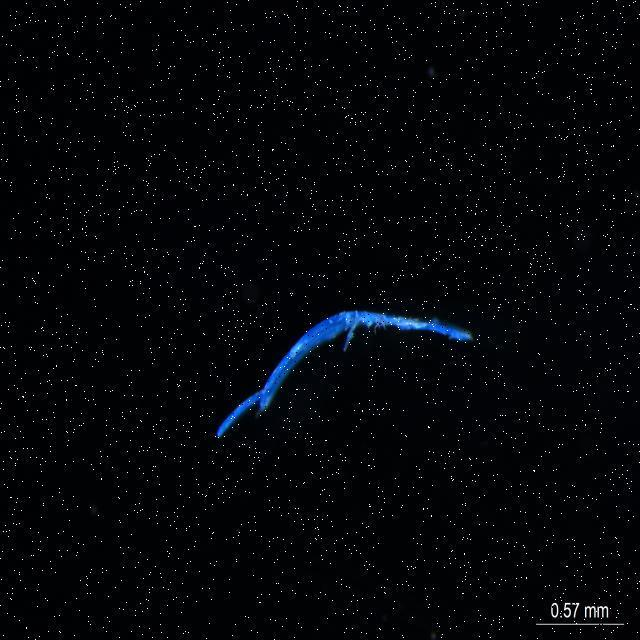Fibre: (210, 306, 484, 446)
